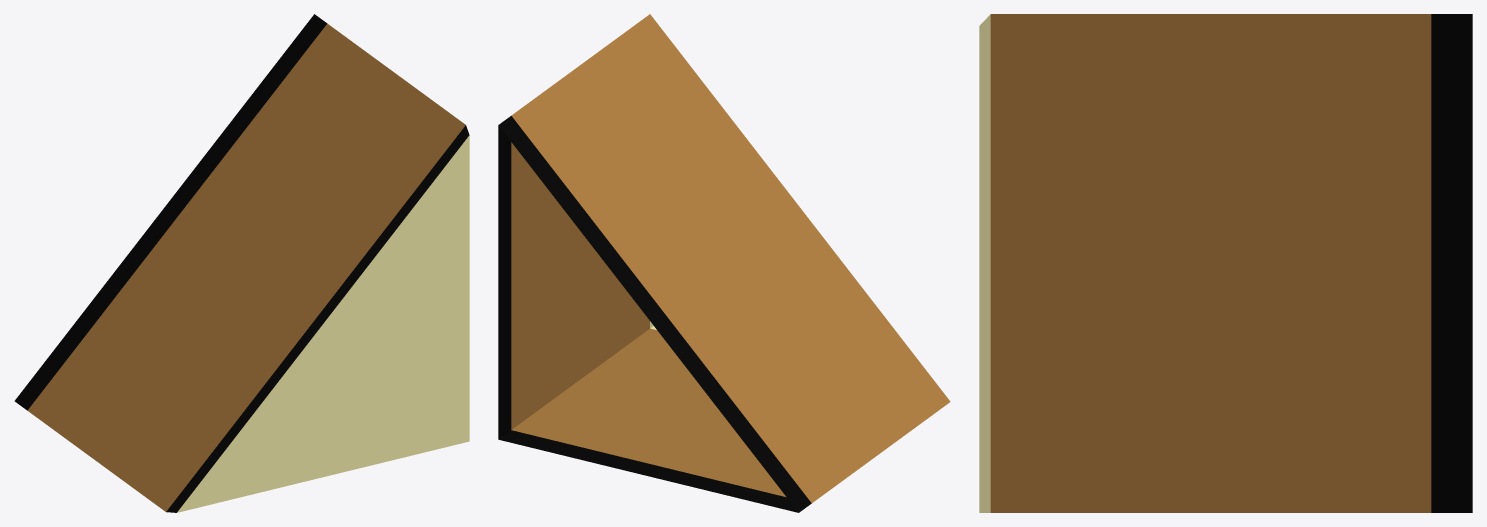
The model's file is Rampa.fbx.
3 renders of one model, left to right at view 1: azimuth 30°, elevation 25°; view 2: azimuth 150°, elevation 25°; view 3: azimuth 270°, elevation 25°, orthographic. The views are drawn at different scales.
Parts seen in each view (by area): view 1: Rampa; view 2: Rampa; view 3: Rampa.
Boxes of the visible parts, x1=… form: Rampa: x1=14, y1=14, x2=469, y2=512; Rampa: x1=498, y1=14, x2=950, y2=512; Rampa: x1=979, y1=14, x2=1472, y2=512.
Bounding box in the file's own units: 400 × 400 × 358.
